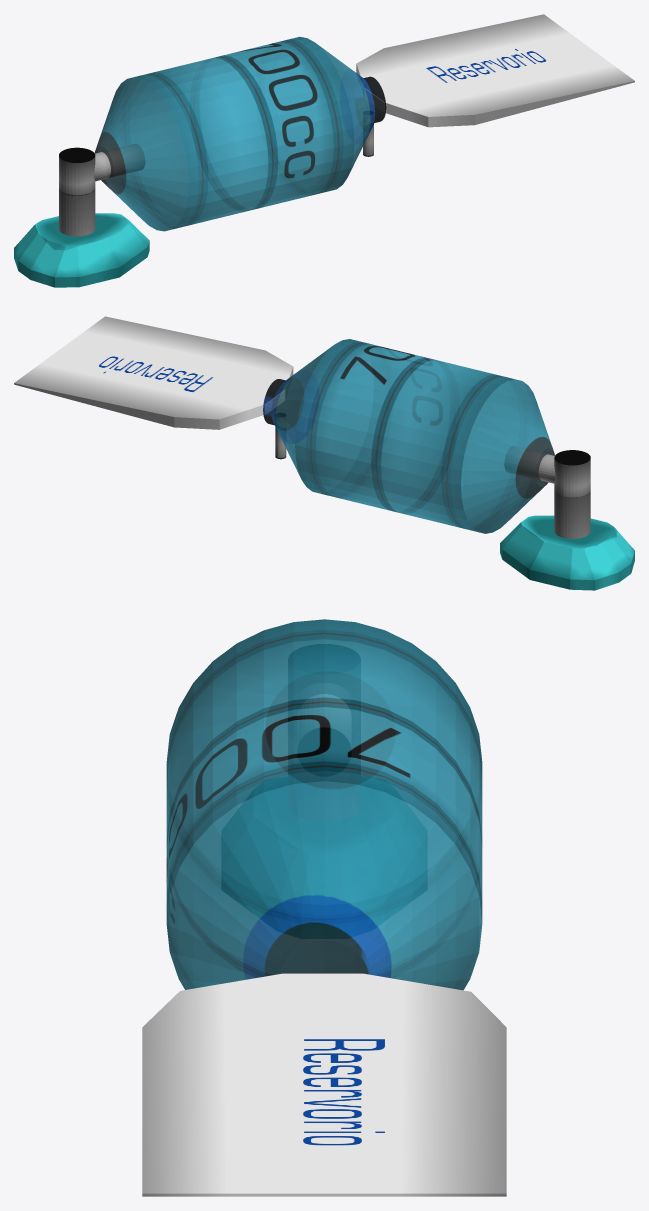
Rendered from ambu.fbx.
3 views of the same model, one above another, from view 1: azimuth 30°, elevation 25°; view 2: azimuth 150°, elevation 25°; view 3: azimuth 270°, elevation 25° (orthographic). The views are drawn at different scales.
Parts seen in each view (by area): view 1: Cylinder_003, Plane_001, Plane, Cylinder_001, Cylinder, Cylinder_002, Cylinder_004; view 2: Cylinder_003, Plane_001, Plane, Cylinder_001, Cylinder, Cylinder_002, Cylinder_004; view 3: Cylinder_003, Plane_001, Cylinder_002.
Boxes of the visible parts, left/top/right/bottom form: Cylinder_003: left=94, top=36, right=386, bottom=231; Plane_001: left=356, top=14, right=634, bottom=127; Plane: left=14, top=213, right=149, bottom=287; Cylinder_001: left=59, top=147, right=95, bottom=195; Cylinder: left=59, top=189, right=95, bottom=236; Cylinder_002: left=94, top=144, right=144, bottom=181; Cylinder_004: left=363, top=111, right=373, bottom=156; Cylinder_003: left=263, top=339, right=554, bottom=533; Plane_001: left=14, top=316, right=293, bottom=429; Plane: left=500, top=515, right=634, bottom=590; Cylinder_001: left=554, top=450, right=590, bottom=497; Cylinder: left=554, top=491, right=590, bottom=538; Cylinder_002: left=504, top=446, right=555, bottom=483; Cylinder_004: left=275, top=413, right=286, bottom=459; Cylinder_003: left=166, top=619, right=482, bottom=990; Plane_001: left=142, top=973, right=506, bottom=1196; Cylinder_002: left=297, top=694, right=351, bottom=776.
Bounding box in the file's own units: 21.51 × 5.9 × 6.
7 materials, 7 textured.
